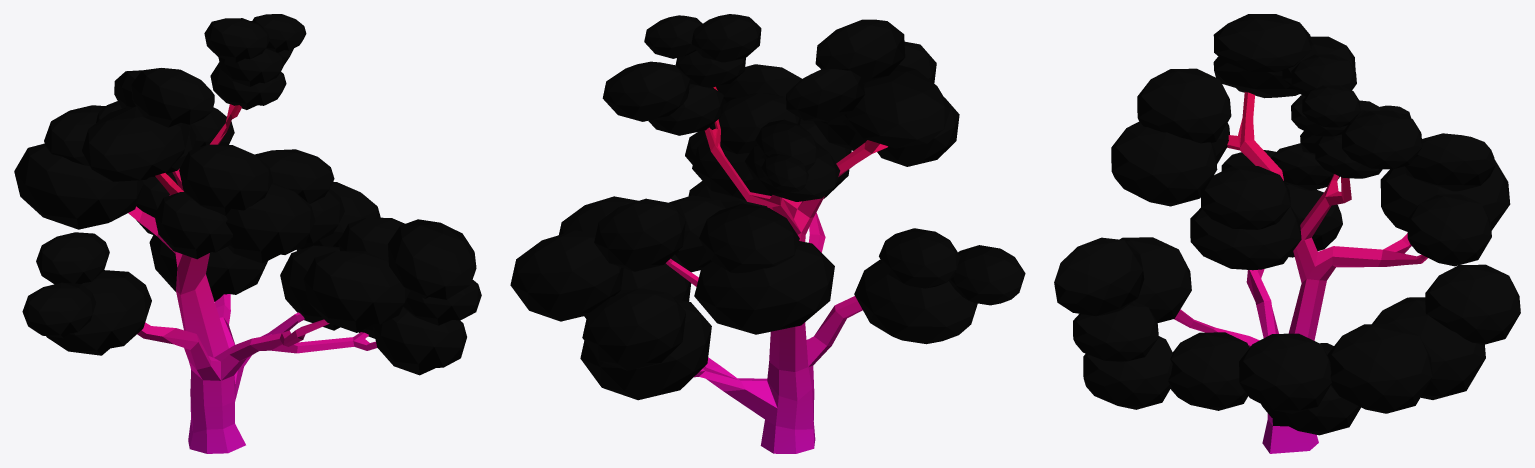
The model's file is PA_TreeSet1_Pile3.fbx.
3 views of the same model, side by side, from view 1: azimuth 30°, elevation 25°; view 2: azimuth 150°, elevation 25°; view 3: azimuth 270°, elevation 25° (orthographic). The views are drawn at different scales.
Visible parts, largest first — view 1: PA_TreeSet1_Pile3; view 2: PA_TreeSet1_Pile3; view 3: PA_TreeSet1_Pile3.
Boxes of the visible parts, bbox=[...] form: PA_TreeSet1_Pile3: bbox=[14, 14, 481, 453]; PA_TreeSet1_Pile3: bbox=[510, 14, 1025, 453]; PA_TreeSet1_Pile3: bbox=[1054, 14, 1520, 453].
Bounding box in the file's own units: 952 × 883 × 930.
